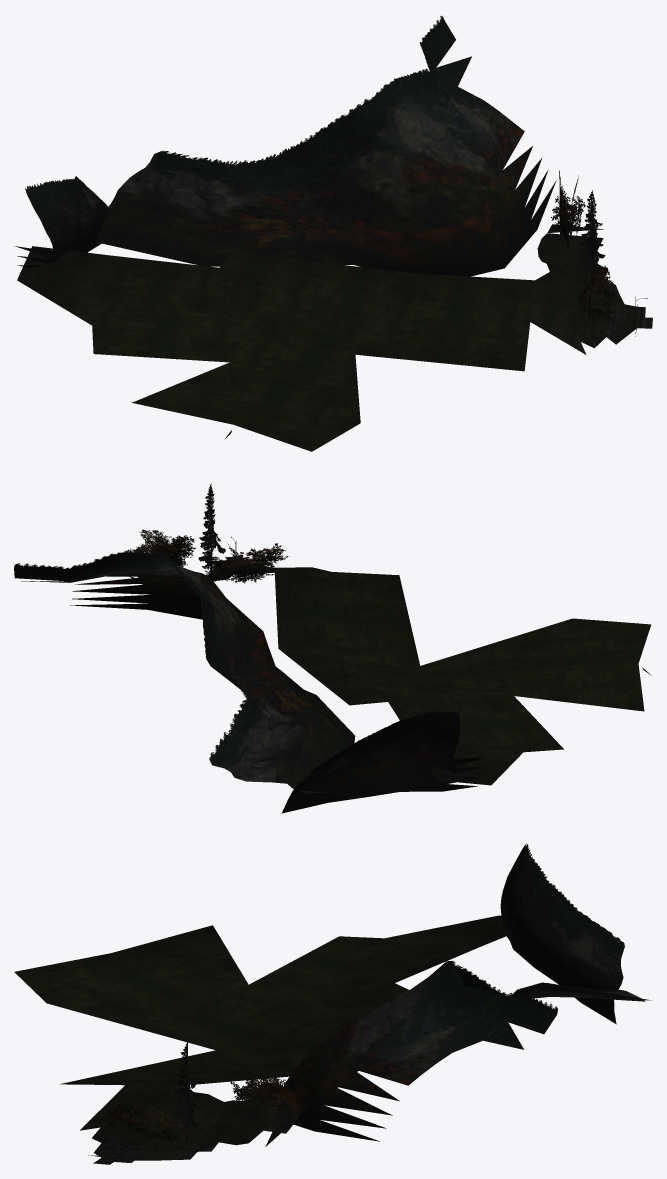
Rendered from cell_-4_-12.gltf.
3 renders of one model, top to bottom at view 1: azimuth 30°, elevation 25°; view 2: azimuth 150°, elevation 25°; view 3: azimuth 270°, elevation 25°, orthographic. The views are drawn at different scales.
Visible parts, largest first — view 1: cell_-4_-12; view 2: cell_-4_-12; view 3: cell_-4_-12.
Part boxes in pixels (bbox=[...]): cell_-4_-12: bbox=[14, 16, 652, 451]; cell_-4_-12: bbox=[14, 483, 651, 813]; cell_-4_-12: bbox=[14, 843, 652, 1164].
Bounding box in the file's own units: 304 × 95.43 × 314.
19 materials, 19 textured.
